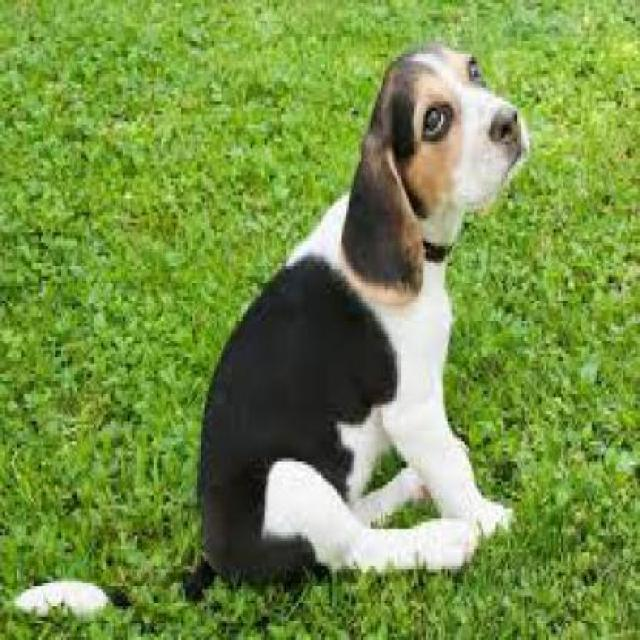Dog: (16, 45, 536, 626)
